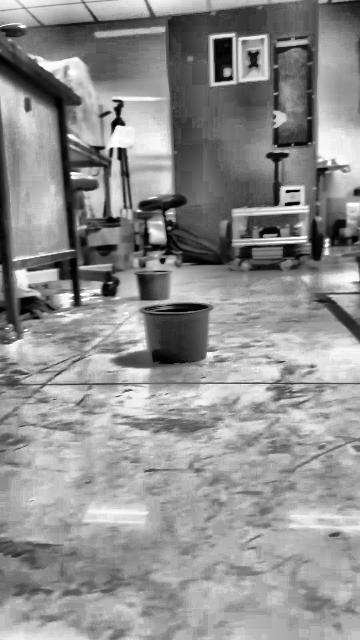pot: (140, 303, 211, 364), (135, 269, 171, 301)
